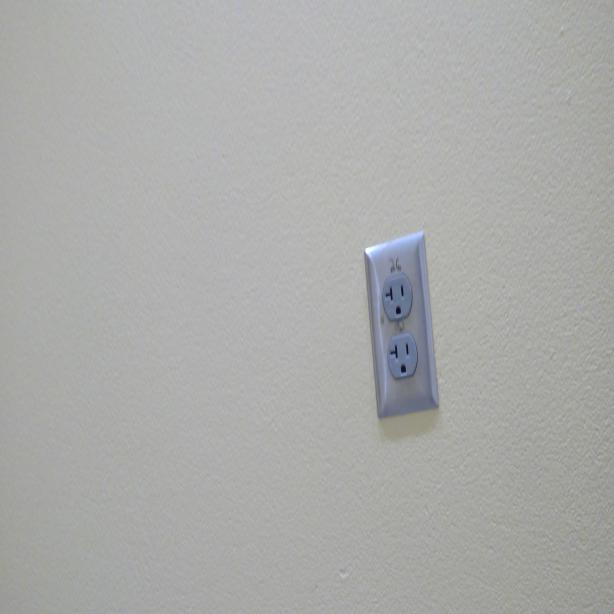typeb: (383, 268, 414, 322), (385, 332, 419, 381)
